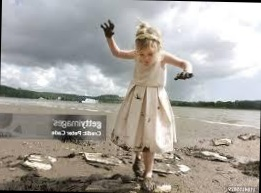earth: (140, 111, 150, 124), (111, 130, 119, 142), (134, 94, 142, 101)
